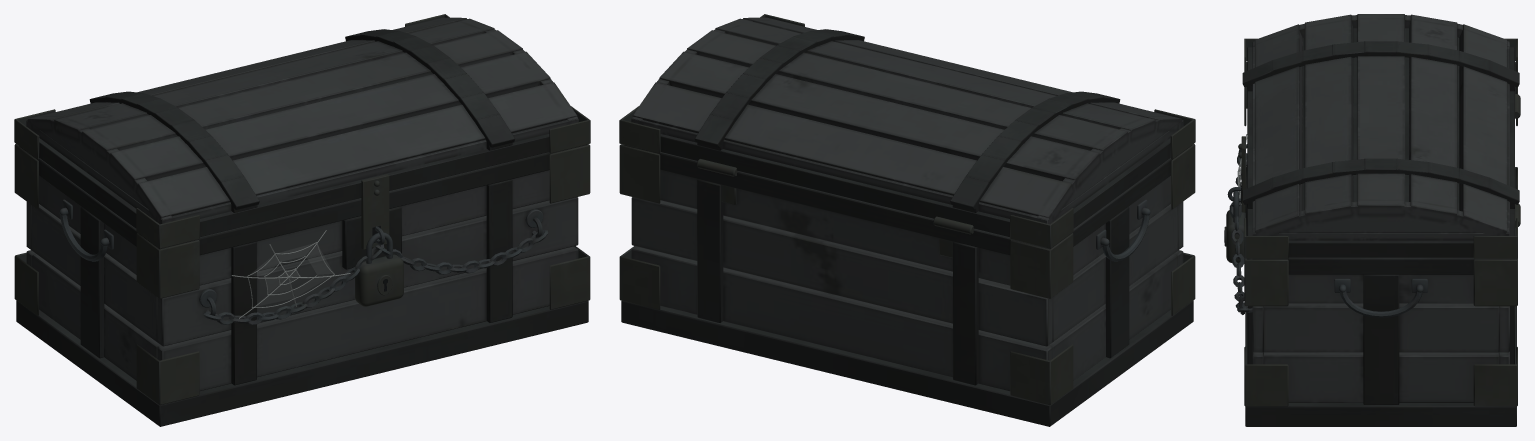
The model's file is padlocked-chest.glb.
3 views of the same model, side by side, from view 1: azimuth 30°, elevation 25°; view 2: azimuth 150°, elevation 25°; view 3: azimuth 270°, elevation 25° (orthographic). The views are drawn at different scales.
Visible parts, largest first — view 1: padlocked-chest_body, padlocked-chest_lid, padlocked-chest_web; view 2: padlocked-chest_body, padlocked-chest_lid; view 3: padlocked-chest_lid, padlocked-chest_body.
Boxes of the visible parts, x1,y1,x2,y2 form: padlocked-chest_body: (14, 144, 590, 426); padlocked-chest_lid: (14, 14, 590, 249); padlocked-chest_web: (232, 230, 350, 318); padlocked-chest_body: (619, 144, 1195, 426); padlocked-chest_lid: (619, 14, 1195, 248); padlocked-chest_lid: (1238, 14, 1519, 258); padlocked-chest_body: (1224, 62, 1520, 426).
Size of the model in its own units: 0.939 by 0.4792 by 0.5758.
4 materials, 2 textured.
